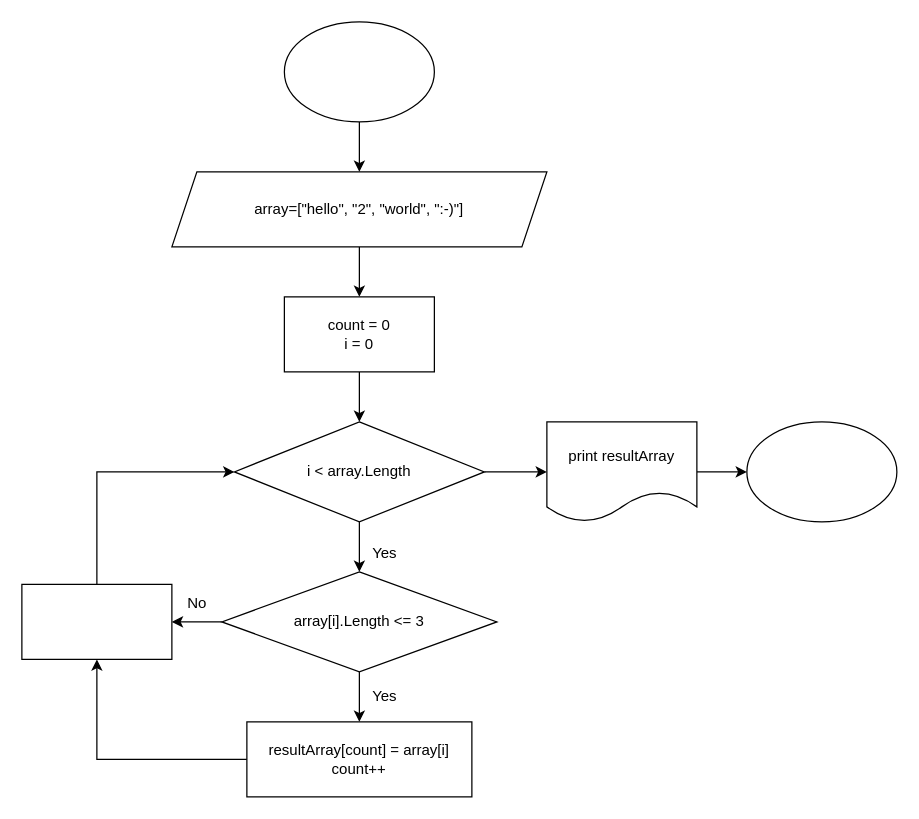
The diagram is 919 pixels wide and 819 high, and some of its shapes have lost their labels. Here are the shapes that lost their labels. From the top down, the centre of each, then its label:
At point (358, 71): "Start".
At point (821, 471): "Finish".
At point (96, 621): "i++".
